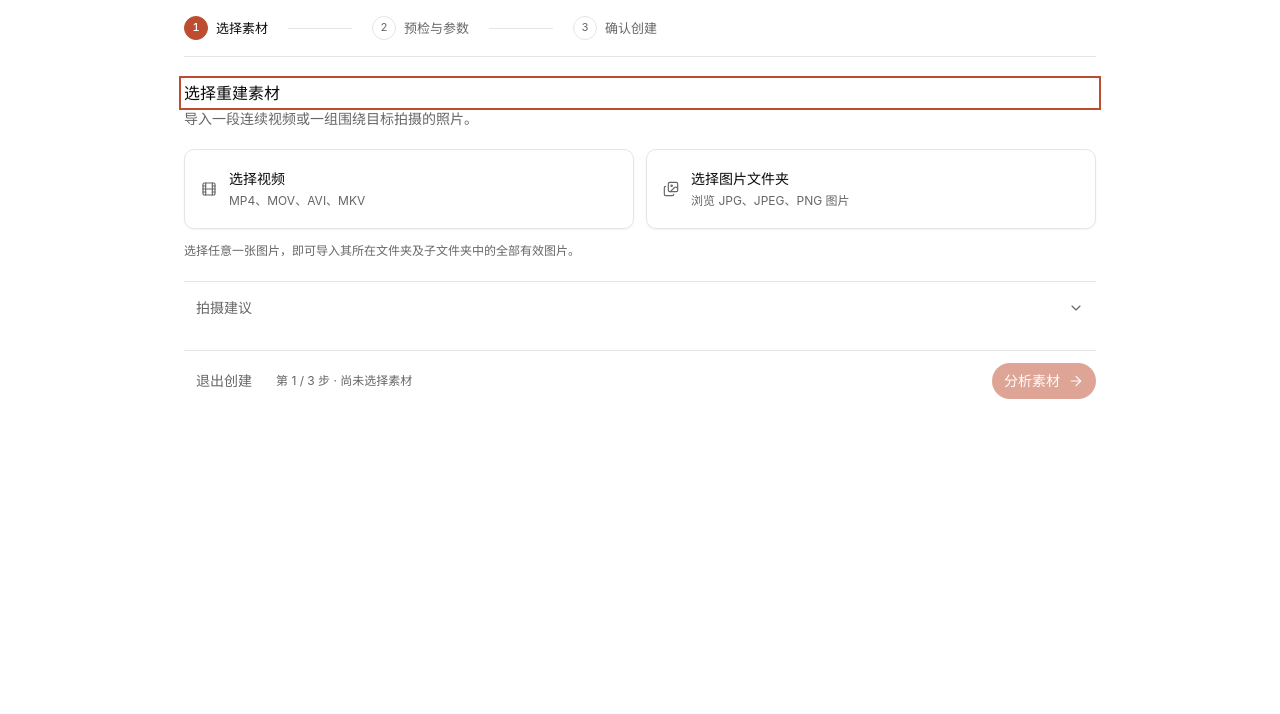
Test case: NewProjectPage › shows recursive image statistics and six controlled previews
The image size is (1280, 714).
Click the button "选择图片文件夹 浏览 JPG、JPEG、PNG 图片": {"x": 740, "y": 178} [646, 149, 1096, 229]
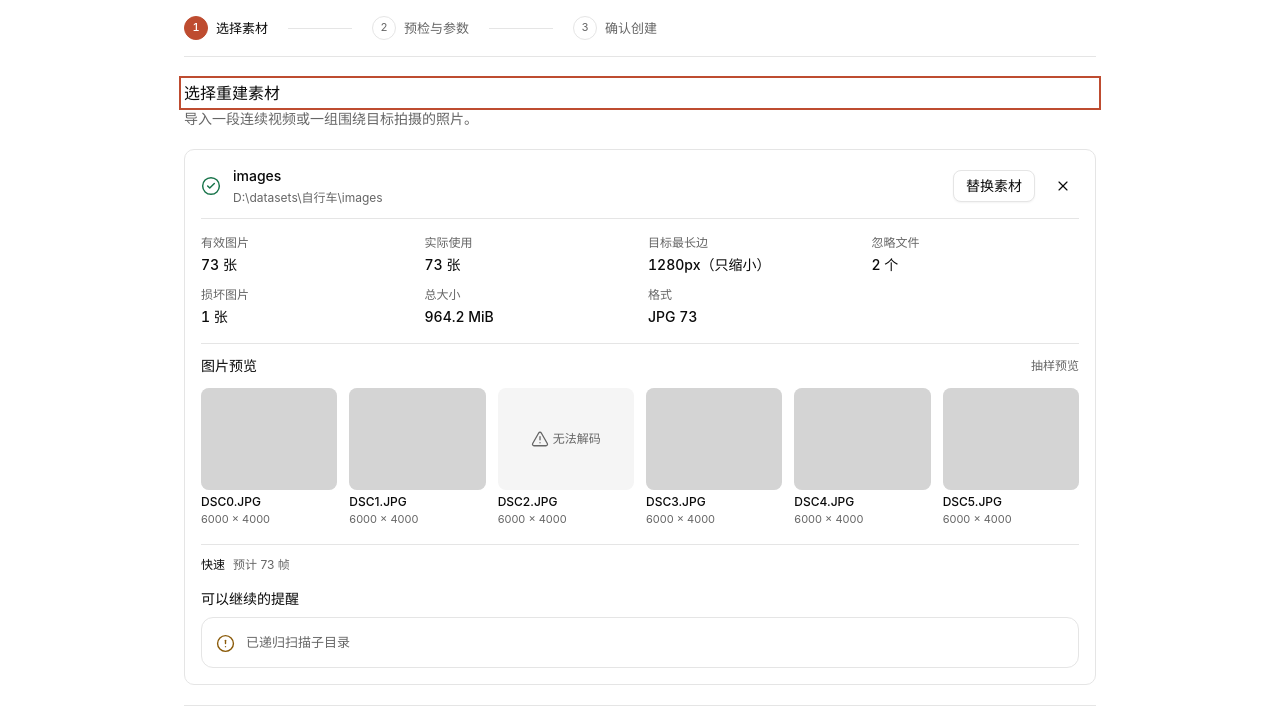
Check: the text "73 张" is shown 2 times, box [201, 256, 237, 273]; [424, 256, 460, 273]
Check: the text "1 张" is shown, box [201, 308, 228, 325]
Check: the text "6000 × 4000" is shown 6 times, box [201, 512, 270, 526]; [349, 512, 418, 526]; [498, 512, 567, 526]; [646, 512, 715, 526]; [794, 512, 863, 526]; [943, 512, 1012, 526]
